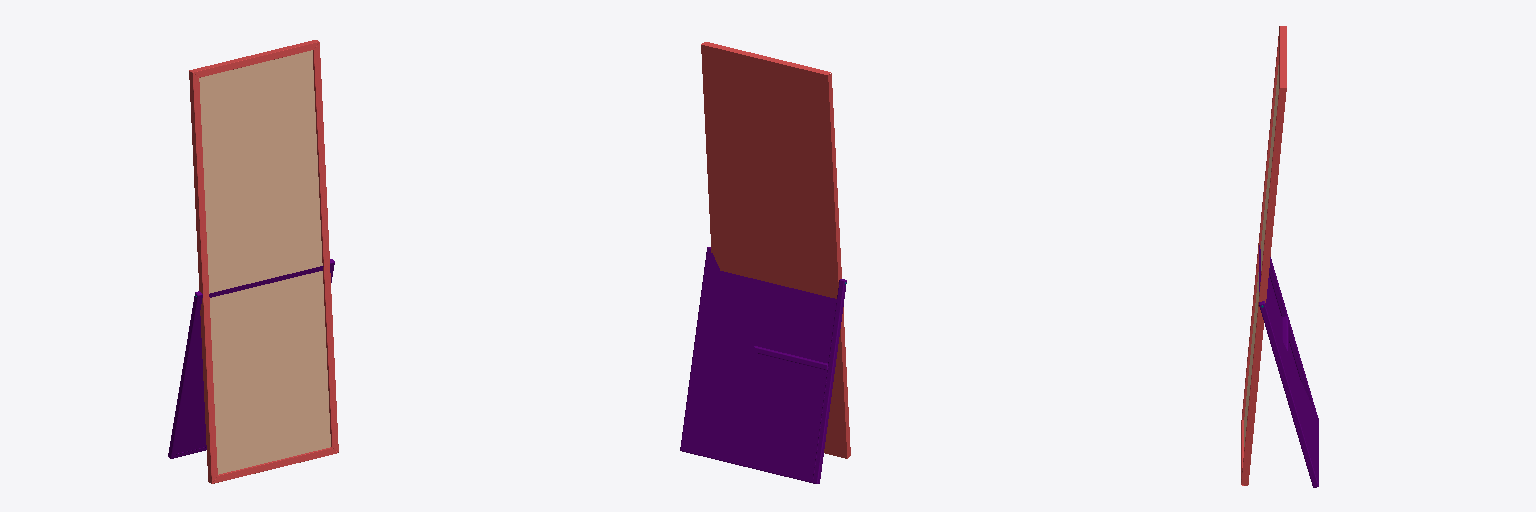
Rendered from Mirror.obj.
3 views of the same model, side by side, from view 1: azimuth 30°, elevation 25°; view 2: azimuth 150°, elevation 25°; view 3: azimuth 270°, elevation 25° (orthographic).
Visible parts, largest first — view 1: Box25995, Box25998, Line5762, Line5764, Line5763, Line5765, Box25994; view 2: Box25994, Box25998, Line5762; view 3: Box25998, Line5764, Box25994, Line5762, Box25995.
Part boxes in pixels (x1,y1,x2,y2): Box25995: (199,50,330,474); Box25998: (168,259,334,458); Line5762: (190,72,217,483); Line5764: (313,42,338,452); Line5763: (191,40,318,77); Line5765: (212,447,337,483); Box25994: (189,40,315,481); Box25994: (701,43,848,458); Box25998: (680,247,846,483); Line5762: (829,73,850,456); Box25998: (1259,245,1318,487); Line5764: (1241,88,1283,485); Box25994: (1246,26,1286,485); Line5762: (1241,36,1278,421); Box25995: (1244,65,1278,446).
Size of the model in its own units: 65.4 by 180 by 31.77.